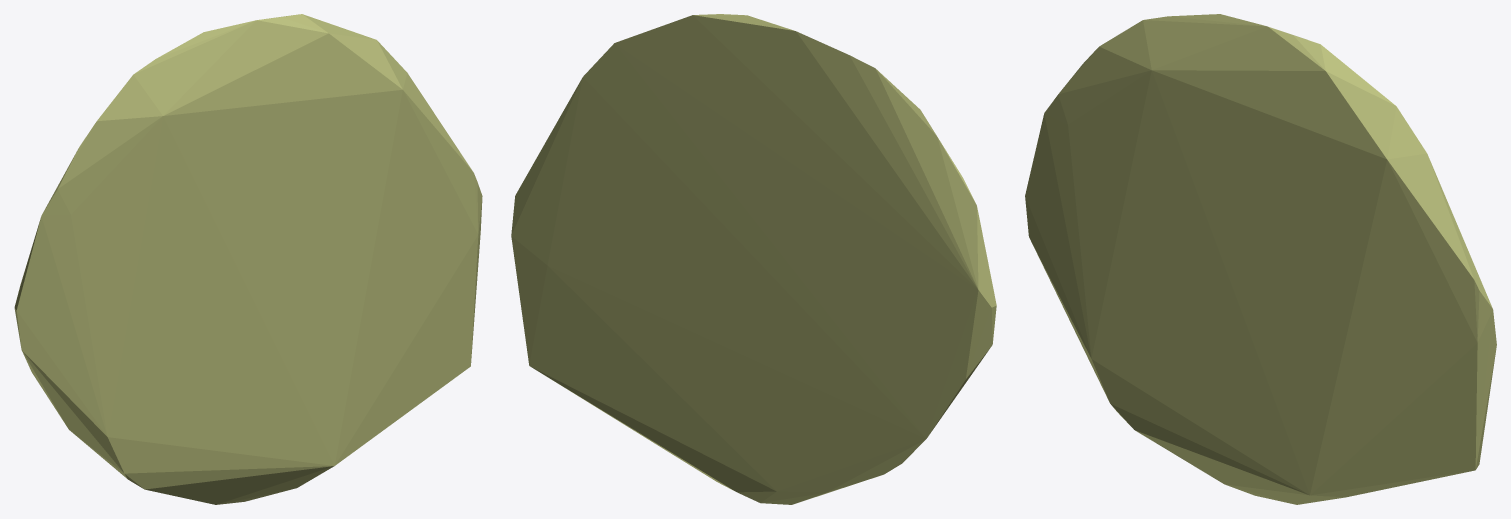
Rendered from cannulae_nasal_a01.glb.
3 views of the same model, side by side, from view 1: azimuth 30°, elevation 25°; view 2: azimuth 150°, elevation 25°; view 3: azimuth 330°, elevation 25° (orthographic). The views are drawn at different scales.
Visible parts, largest first — view 1: geometry_0; view 2: geometry_0; view 3: geometry_0.
Part boxes in pixels (x1,y1,x2,y2): geometry_0: [14, 14, 482, 504]; geometry_0: [511, 14, 996, 504]; geometry_0: [1025, 14, 1496, 504].
Size of the model in its own units: 0.4768 by 0.4623 by 0.0407.
